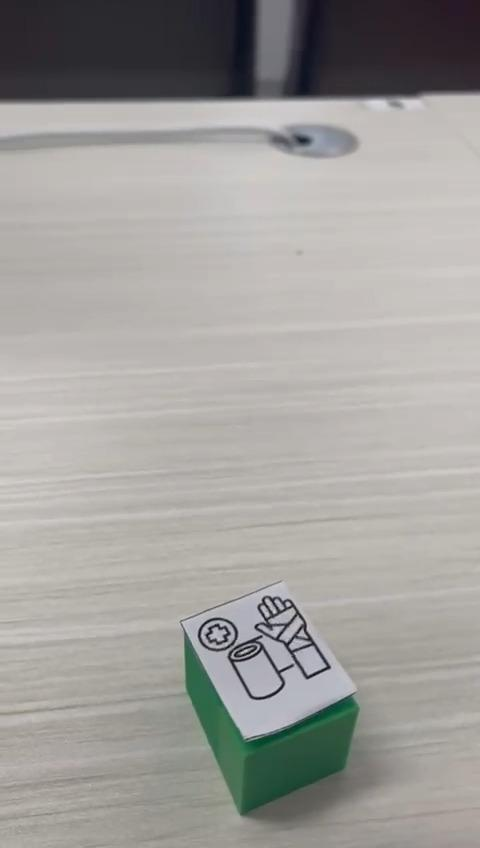Bandages: (179, 581, 358, 815)
